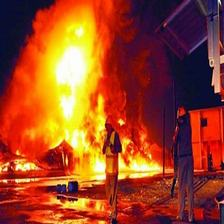fire: (2, 3, 106, 177), (116, 112, 165, 173)
